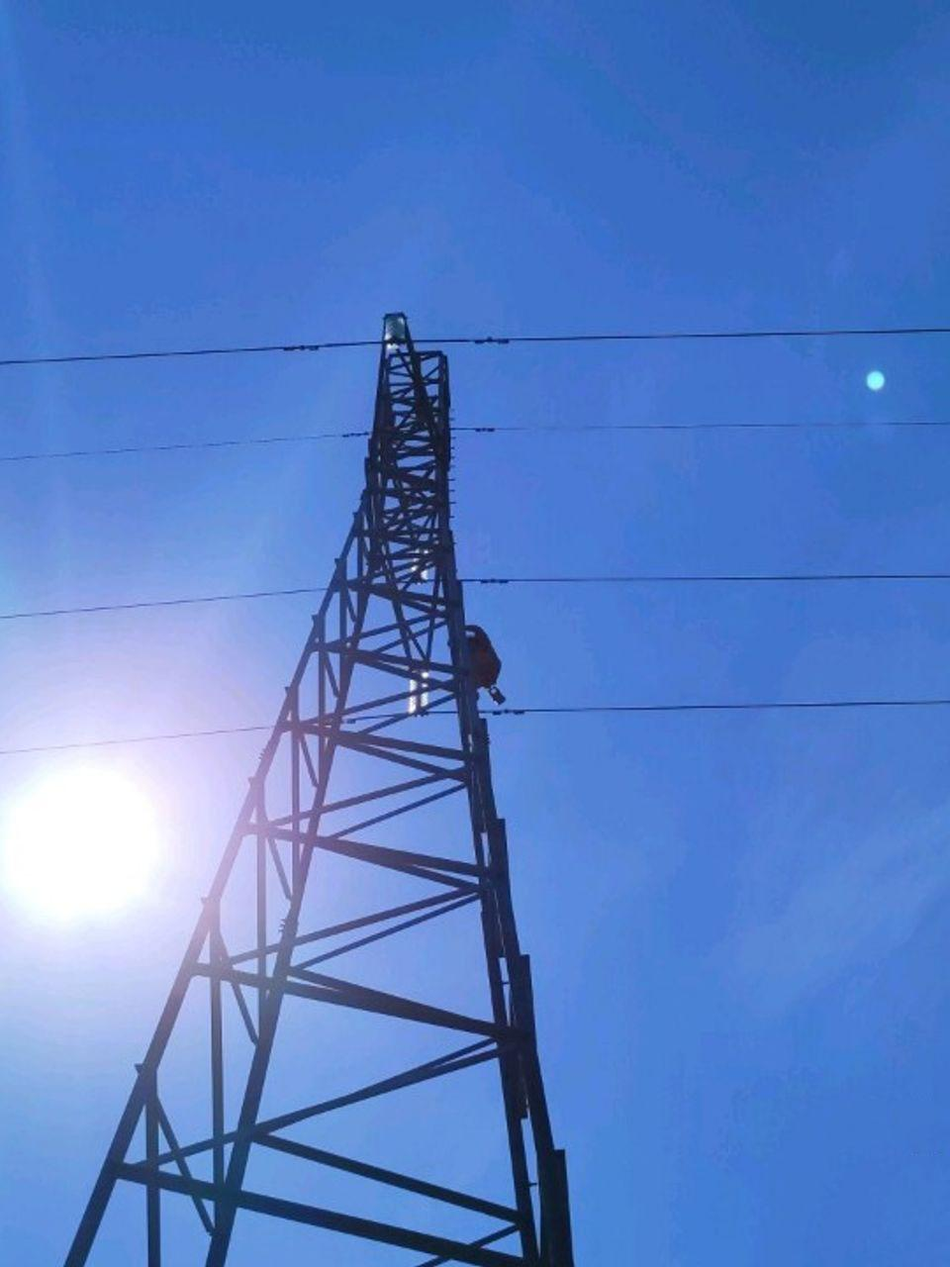tower: (26, 287, 633, 1267)
